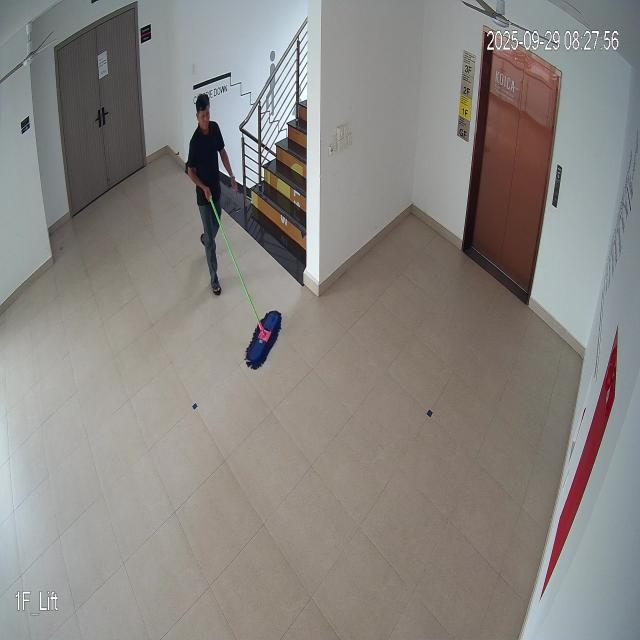face: (195, 92, 213, 136)
